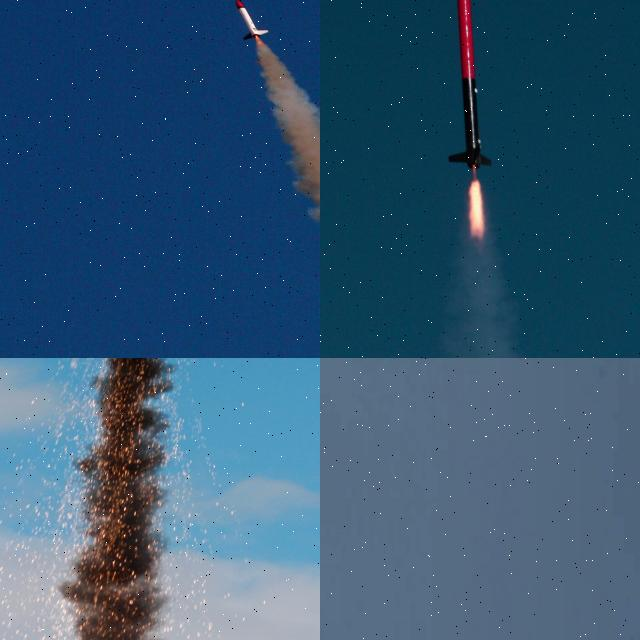Rocket: (446, 0, 493, 171), (236, 0, 269, 40)
